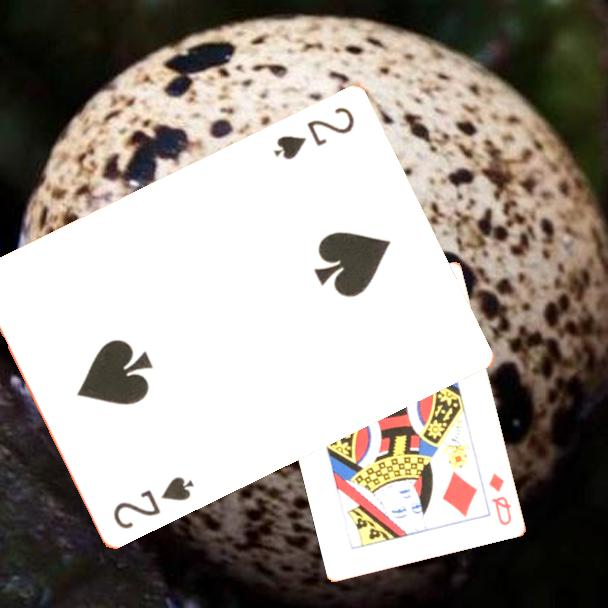d12: (486, 470, 515, 529)
s02: (269, 104, 358, 164), (109, 473, 196, 533)
